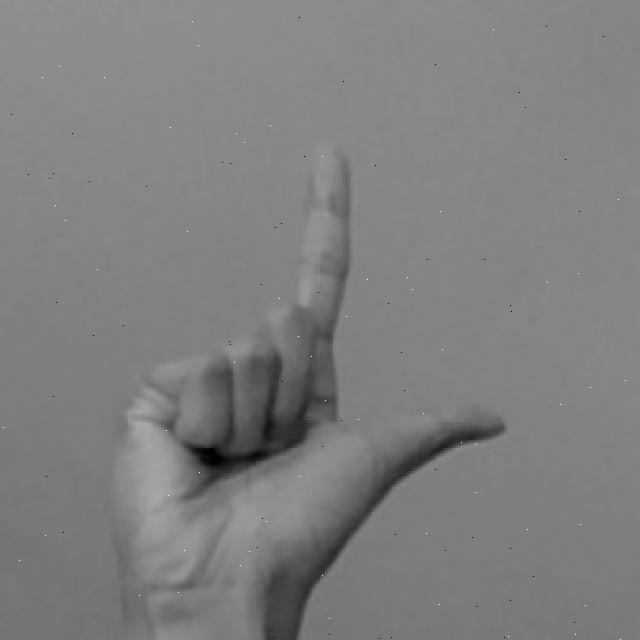L: (102, 135, 514, 640)
